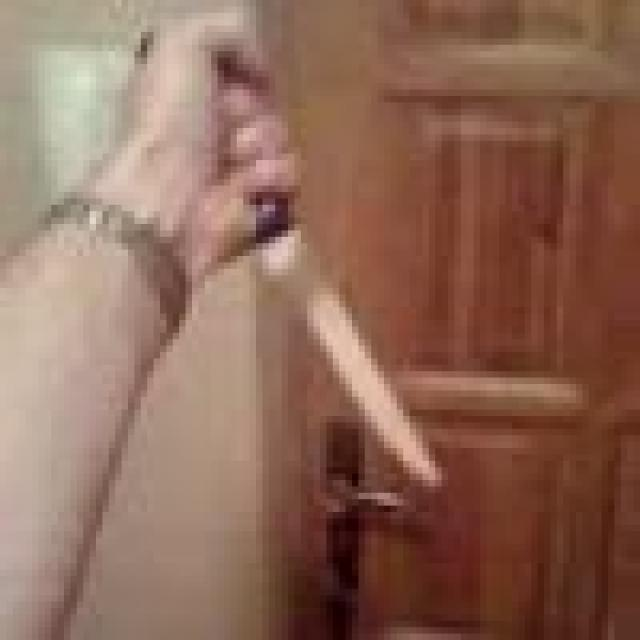senjata_tajam: (254, 192, 444, 490)
